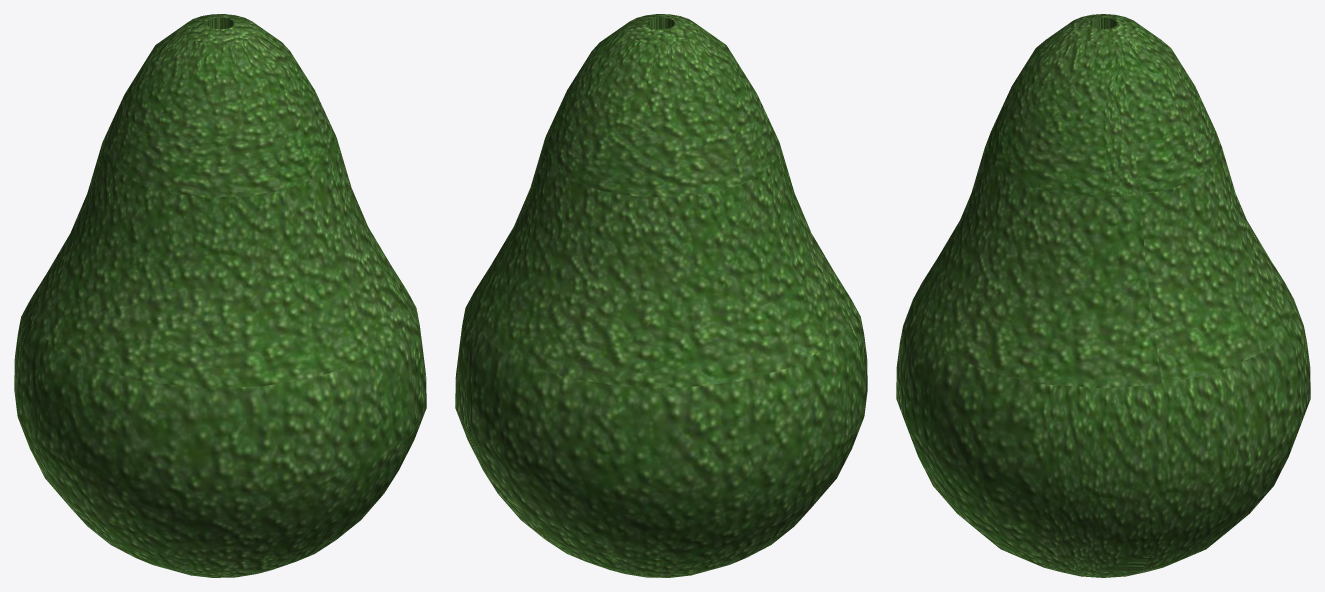
Rendered from gahhhh.fbx.
3 views of the same model, side by side, from view 1: azimuth 30°, elevation 25°; view 2: azimuth 150°, elevation 25°; view 3: azimuth 270°, elevation 25° (orthographic).
Visible parts, largest first — view 1: pSphere1; view 2: pSphere1; view 3: pSphere1.
Part boxes in pixels (<box>): pSphere1: <box>14,14,426,577</box>; pSphere1: <box>455,14,867,577</box>; pSphere1: <box>896,14,1310,577</box>.
Bounding box in the file's own units: 1.73 × 2.47 × 1.73.
2 materials, 1 textured.
